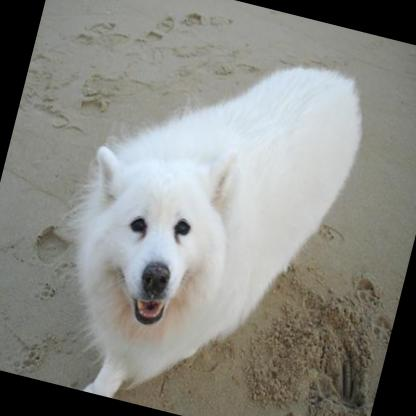Samoyed: (24, 14, 373, 416)
